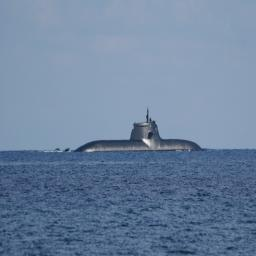submarine: (56, 108, 204, 154)
